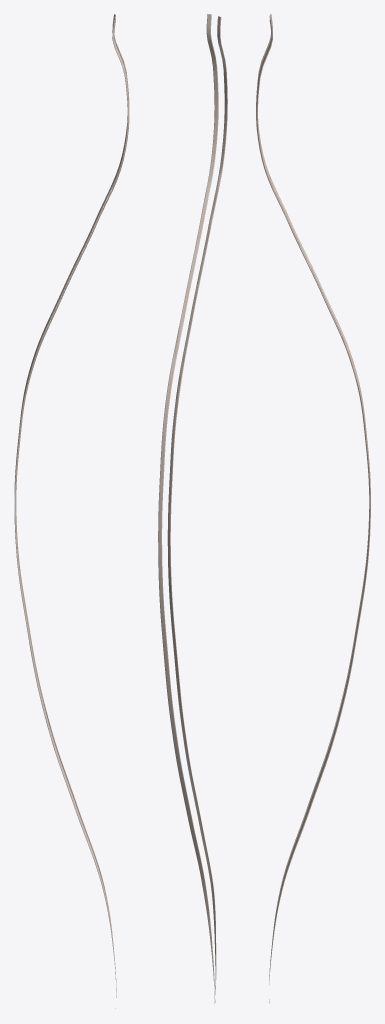
File: nervoso-medial-reticulospinal-tract.glb
3 views of the same model, side by side, from view 1: azimuth 90°, elevation 25°; view 2: azimuth 150°, elevation 25°; view 3: azimuth 270°, elevation 25° (orthographic).
Parts seen in each view (by area): view 1: Medial reticulospinal tract; view 2: Medial reticulospinal tract; view 3: Medial reticulospinal tract.
Part boxes in pixels (x1=…): Medial reticulospinal tract: x1=14, y1=14, x2=129, y2=1008; Medial reticulospinal tract: x1=158, y1=14, x2=227, y2=1003; Medial reticulospinal tract: x1=256, y1=14, x2=370, y2=1003.
Bounding box in the file's own units: 0.00707 × 0.489 × 0.0513.
